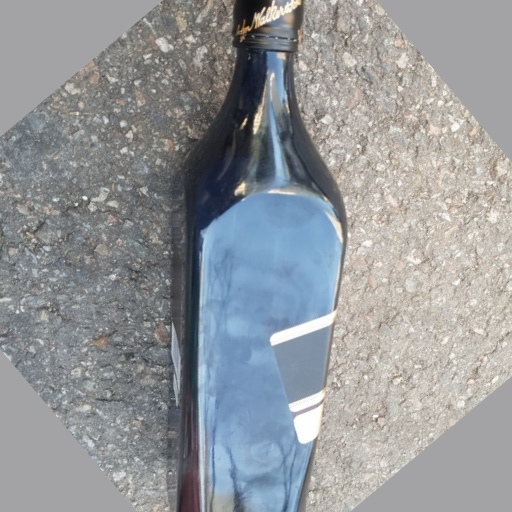Glass_2: (169, 3, 350, 512)
